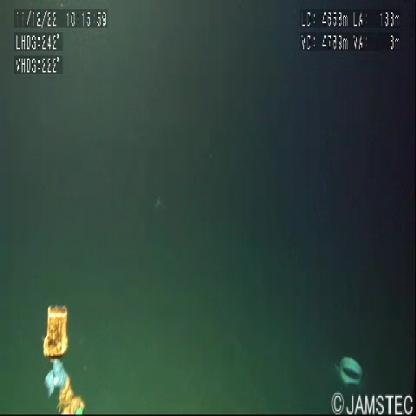Rác: (339, 358, 363, 386)
